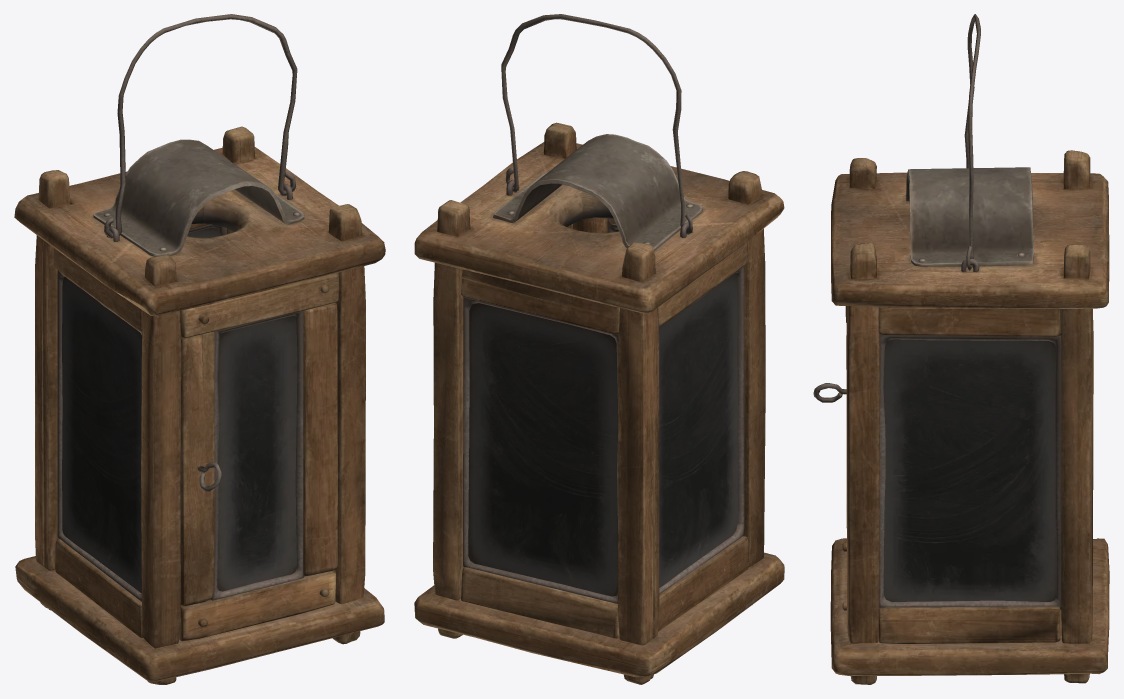
File: assets__ph__wooden_lantern_01.glb
3 views of the same model, side by side, from view 1: azimuth 30°, elevation 25°; view 2: azimuth 150°, elevation 25°; view 3: azimuth 270°, elevation 25° (orthographic).
Visible parts, largest first — view 1: wooden_lantern_01; view 2: wooden_lantern_01; view 3: wooden_lantern_01.
Boxes of the visible parts, bbox=[...] form: wooden_lantern_01: bbox=[14, 14, 385, 684]; wooden_lantern_01: bbox=[414, 14, 784, 684]; wooden_lantern_01: bbox=[813, 14, 1109, 684].
Bounding box in the file's own units: 0.2211 × 0.5296 × 0.2347.
2 materials, 2 textured.
